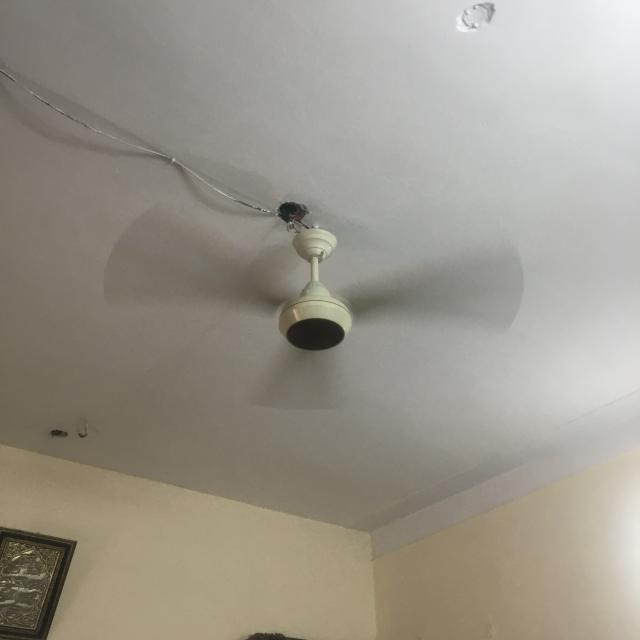on: (94, 193, 531, 420)
